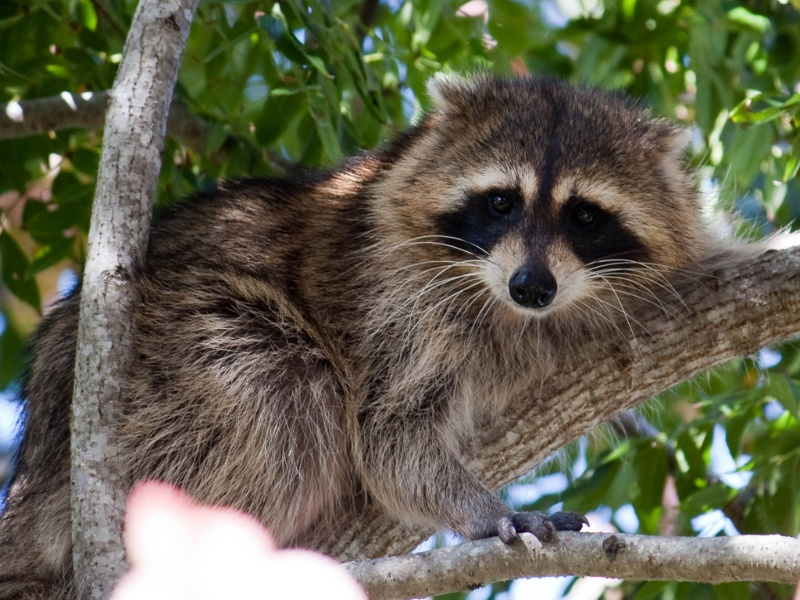raccoon: (23, 63, 707, 568)
